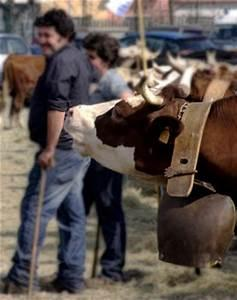cow: (62, 55, 236, 275)
